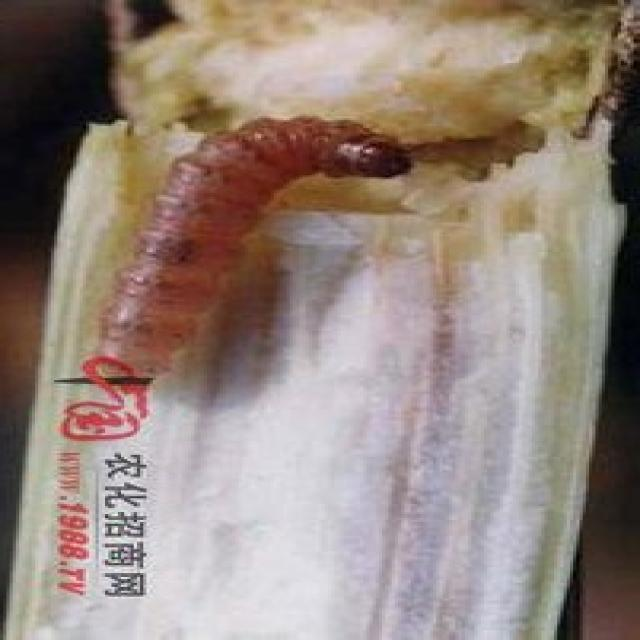peach borer: (100, 112, 412, 398)
